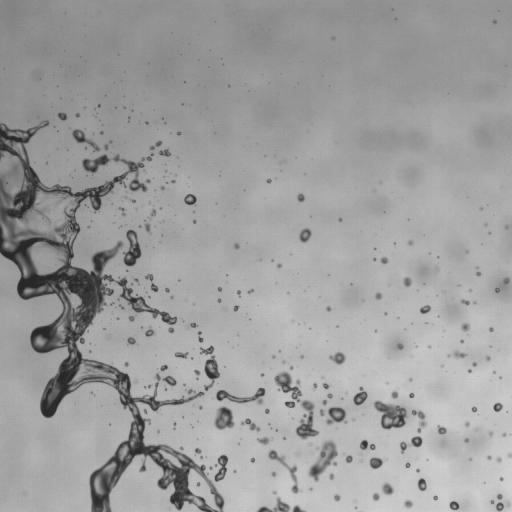droplet: (307, 440, 337, 481), (374, 400, 408, 429), (214, 406, 234, 429), (326, 406, 346, 425), (353, 387, 367, 405), (329, 352, 345, 364), (369, 457, 384, 469), (299, 228, 311, 242), (382, 482, 393, 495), (360, 440, 375, 449), (184, 194, 196, 205), (496, 502, 510, 511), (417, 478, 426, 491), (452, 350, 465, 358), (257, 437, 270, 444), (493, 402, 503, 411), (449, 501, 459, 510), (145, 327, 154, 336), (437, 425, 446, 434), (403, 277, 411, 287), (420, 305, 430, 313), (159, 149, 170, 156), (175, 352, 187, 358), (58, 112, 66, 120), (461, 323, 469, 331), (404, 500, 412, 508), (127, 337, 136, 344), (297, 193, 304, 201), (391, 390, 398, 398), (345, 455, 352, 463), (372, 492, 379, 500), (375, 292, 382, 299), (380, 257, 388, 263), (461, 299, 469, 305), (194, 369, 200, 376), (323, 382, 329, 389), (334, 494, 340, 501), (503, 277, 509, 283), (233, 305, 239, 311), (397, 343, 403, 349), (471, 406, 477, 412), (319, 409, 325, 415), (195, 448, 201, 454), (160, 365, 167, 370), (189, 323, 197, 327), (234, 243, 239, 249), (313, 383, 317, 390), (326, 306, 331, 311), (129, 316, 134, 321), (327, 393, 332, 398), (496, 457, 501, 462), (497, 494, 502, 499), (104, 144, 108, 150), (476, 270, 480, 276), (329, 473, 333, 479), (408, 240, 412, 245), (134, 278, 138, 283), (248, 289, 253, 293), (409, 393, 414, 397), (322, 400, 326, 405), (465, 421, 469, 426), (405, 463, 410, 467), (433, 495, 437, 500), (237, 290, 240, 296), (75, 113, 79, 117), (277, 263, 281, 267), (165, 288, 169, 292), (495, 288, 499, 292), (489, 327, 493, 331), (486, 356, 490, 360), (124, 362, 128, 366), (472, 362, 476, 366), (198, 405, 202, 409), (265, 409, 269, 413), (464, 438, 468, 442), (507, 453, 511, 457), (487, 455, 491, 459), (250, 458, 254, 462), (271, 472, 275, 476), (130, 199, 135, 202), (146, 385, 151, 388), (218, 287, 221, 291), (218, 298, 221, 302), (289, 366, 293, 369), (143, 409, 146, 413), (177, 132, 180, 135), (267, 179, 270, 182), (161, 186, 164, 189), (193, 220, 196, 223), (120, 305, 123, 308), (468, 369, 471, 372), (260, 373, 263, 376), (489, 432, 492, 435), (503, 433, 506, 436), (416, 469, 419, 472), (500, 477, 503, 480), (196, 483, 200, 485), (172, 180, 174, 183), (339, 218, 341, 221), (505, 226, 508, 228), (460, 340, 463, 342), (200, 456, 203, 458), (209, 467, 212, 469), (273, 491, 275, 494), (173, 423, 175, 425), (310, 488, 312, 490), (491, 501, 493, 503)
ligament: (0, 121, 223, 511), (274, 371, 318, 439), (268, 450, 300, 493), (200, 346, 220, 390), (215, 387, 265, 404), (256, 496, 305, 511), (123, 229, 141, 266), (72, 129, 99, 151), (214, 454, 228, 481), (400, 435, 422, 452), (412, 410, 426, 432), (240, 418, 260, 431), (145, 274, 158, 291), (150, 140, 161, 150), (148, 209, 156, 219), (145, 222, 151, 233), (198, 331, 203, 342), (119, 207, 125, 216)
